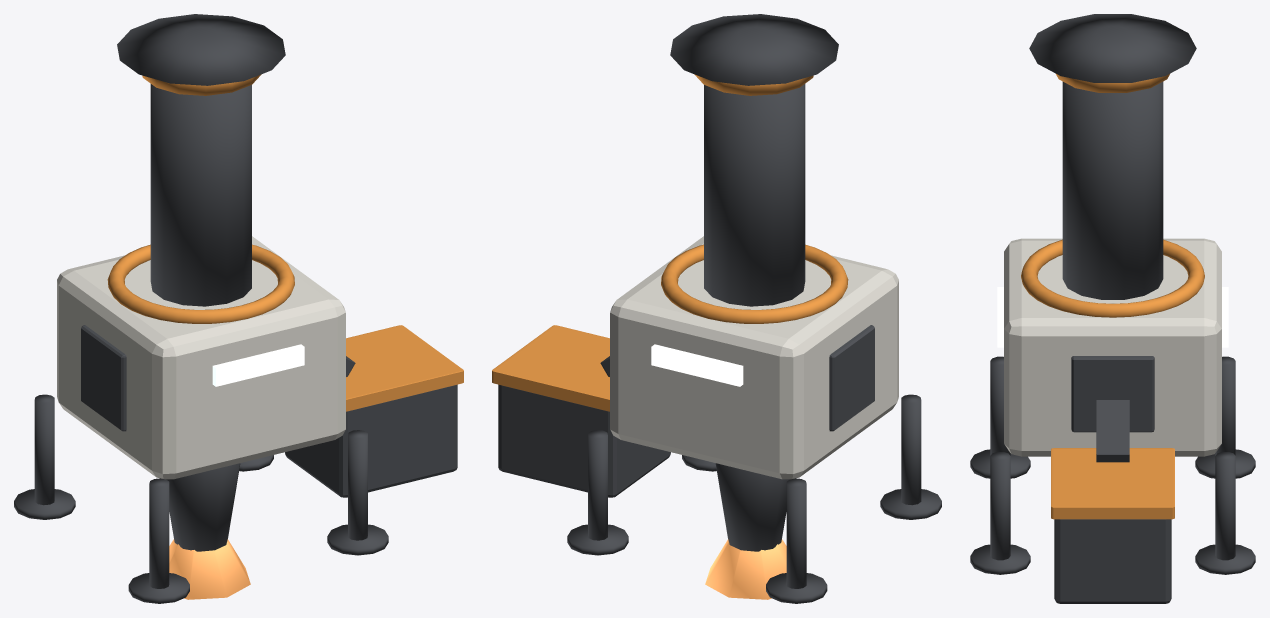
File: extractor.glb
3 views of the same model, side by side, from view 1: azimuth 30°, elevation 25°; view 2: azimuth 150°, elevation 25°; view 3: azimuth 270°, elevation 25° (orthographic).
Parts seen in each view (by area): view 1: extractor; view 2: extractor; view 3: extractor.
Part boxes in pixels (x1,y1,x2,y2): extractor: [14, 14, 463, 603]; extractor: [492, 14, 941, 603]; extractor: [970, 14, 1255, 603].
Bounding box in the file's own units: 2.42 × 3.52 × 1.7.
